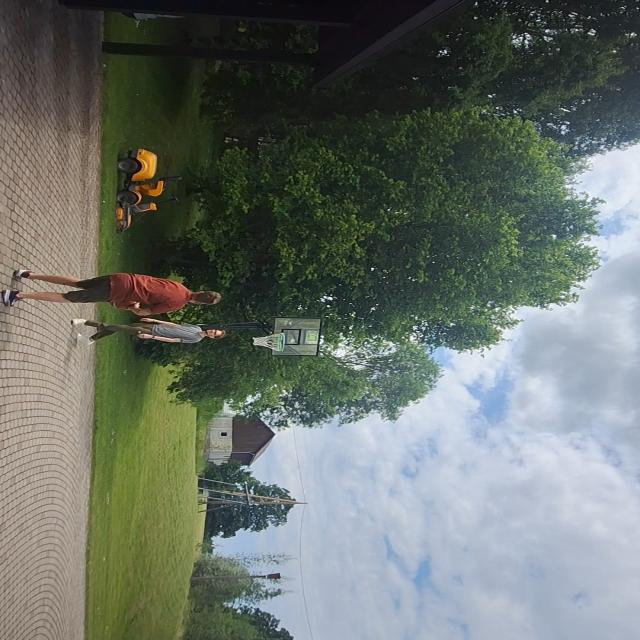ball: (106, 297, 137, 311)
hoop: (253, 333, 286, 352)
player: (4, 266, 227, 312), (72, 314, 230, 347)
